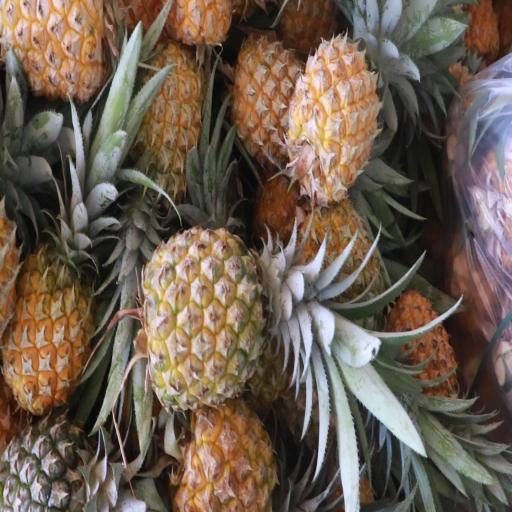------------------------------: (131, 220, 330, 411)
Pineapple - v8 v1: (0, 148, 98, 415), (166, 383, 329, 512), (286, 39, 399, 195), (129, 44, 208, 203), (230, 28, 305, 170)
